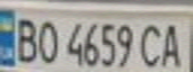4: (63, 17, 84, 66)
5: (97, 19, 118, 67)
6: (81, 19, 103, 67)
9: (115, 20, 139, 69)
A: (157, 19, 187, 69)
B: (9, 12, 42, 64)
C: (136, 20, 166, 69)
O: (33, 16, 60, 65)
